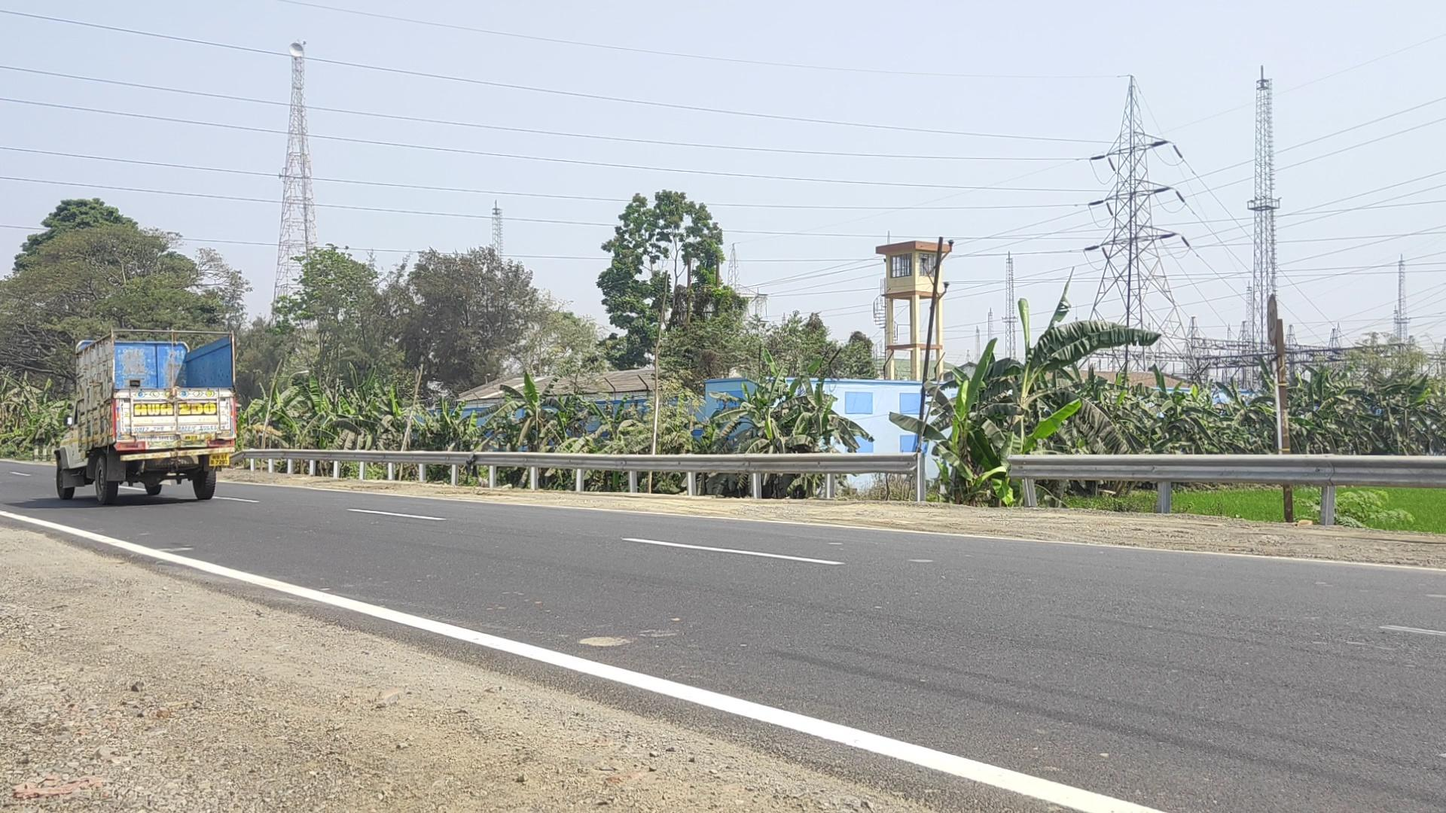van: (53, 327, 237, 505)
